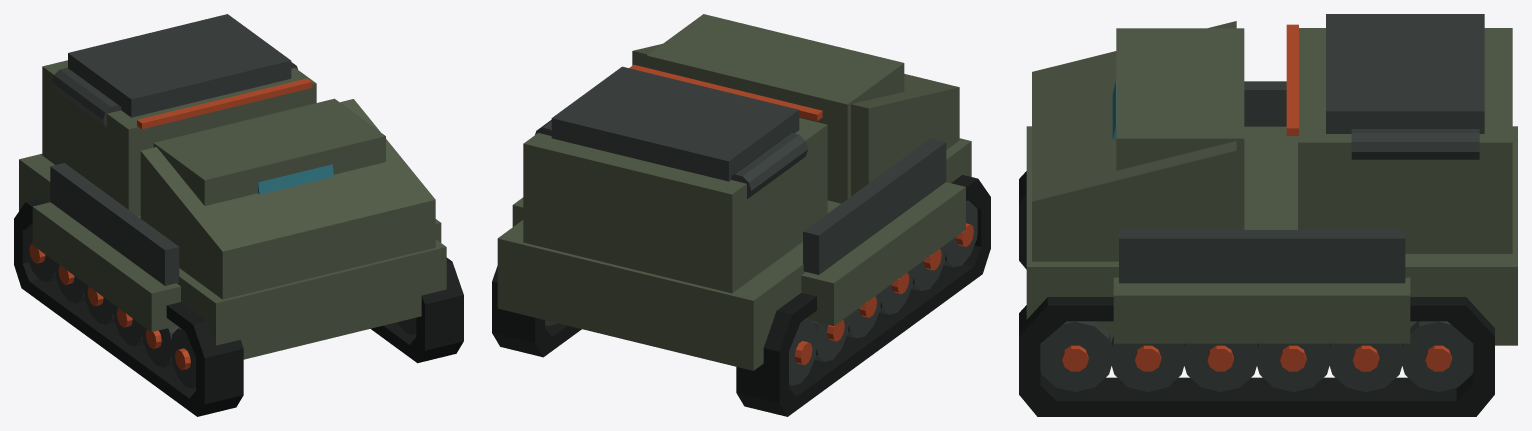
Rendered from Bastion_Harvester_Base.obj.
3 renders of one model, left to right at view 1: azimuth 30°, elevation 25°; view 2: azimuth 150°, elevation 25°; view 3: azimuth 270°, elevation 25°, orthographic. The views are drawn at different scales.
Parts seen in each view (by area): view 1: Bastion_Harvester_Base; view 2: Bastion_Harvester_Base; view 3: Bastion_Harvester_Base.
Boxes of the visible parts, x1,y1,x2,y2 form: Bastion_Harvester_Base: (14, 14, 463, 416); Bastion_Harvester_Base: (492, 14, 990, 416); Bastion_Harvester_Base: (1019, 14, 1517, 416).
Size of the model in its own units: 4.08 by 2.97 by 4.88.
Materials: 1 (1 with a texture image).
